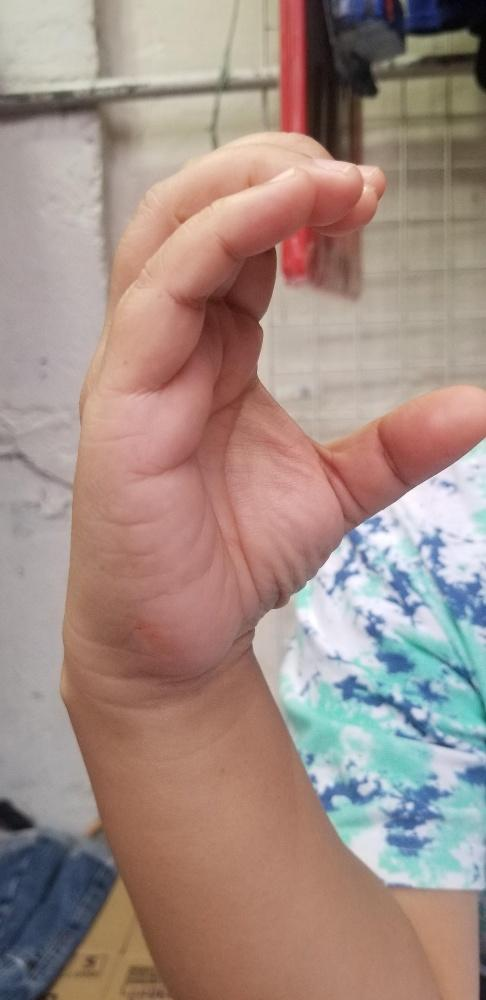c: (60, 129, 485, 675)
